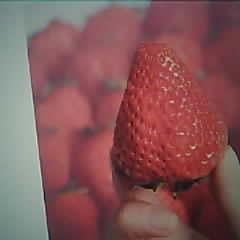straw-ripe: (114, 42, 227, 185)
